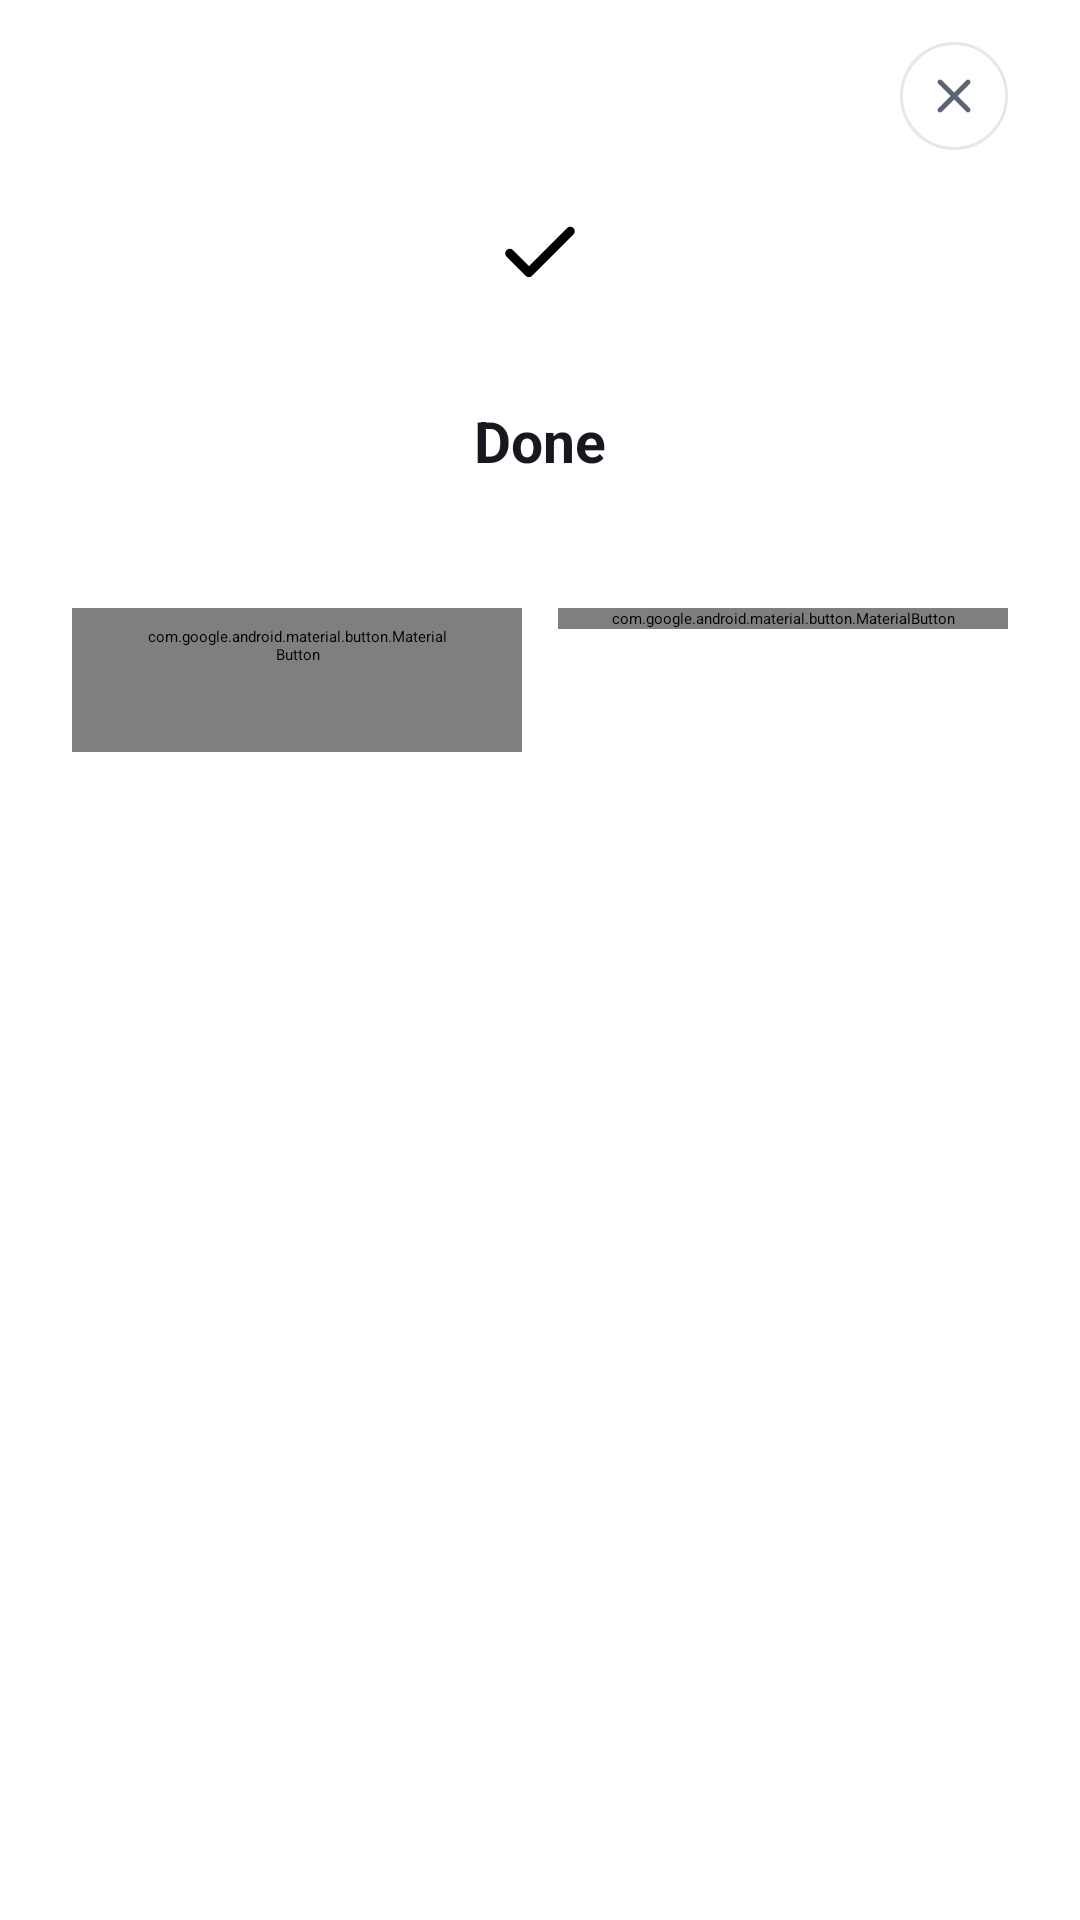

Icons on this 1080*1920 Android screen, each with the point to tap as point (x, y):
Close: point (954, 96)
